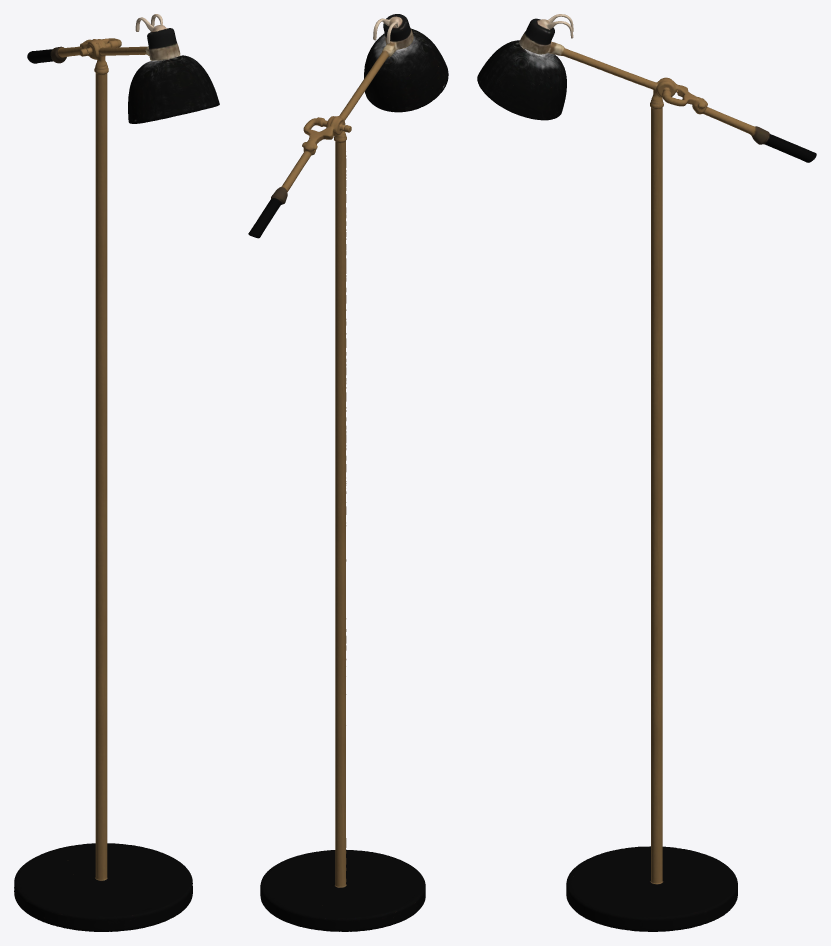
3 renders of one model, left to right at view 1: azimuth 30°, elevation 25°; view 2: azimuth 150°, elevation 25°; view 3: azimuth 270°, elevation 25°, orthographic. The views are drawn at different scales.
Parts seen in each view (by area): view 1: geometry_0; view 2: geometry_0; view 3: geometry_0.
Boxes of the visible parts, x1,y1,x2,y2 form: geometry_0: (14, 14, 219, 931); geometry_0: (248, 14, 448, 931); geometry_0: (477, 14, 816, 931).
Bounding box in the file's own units: 0.1775 × 1 × 0.3504.
Materials: 1 (1 with a texture image).
